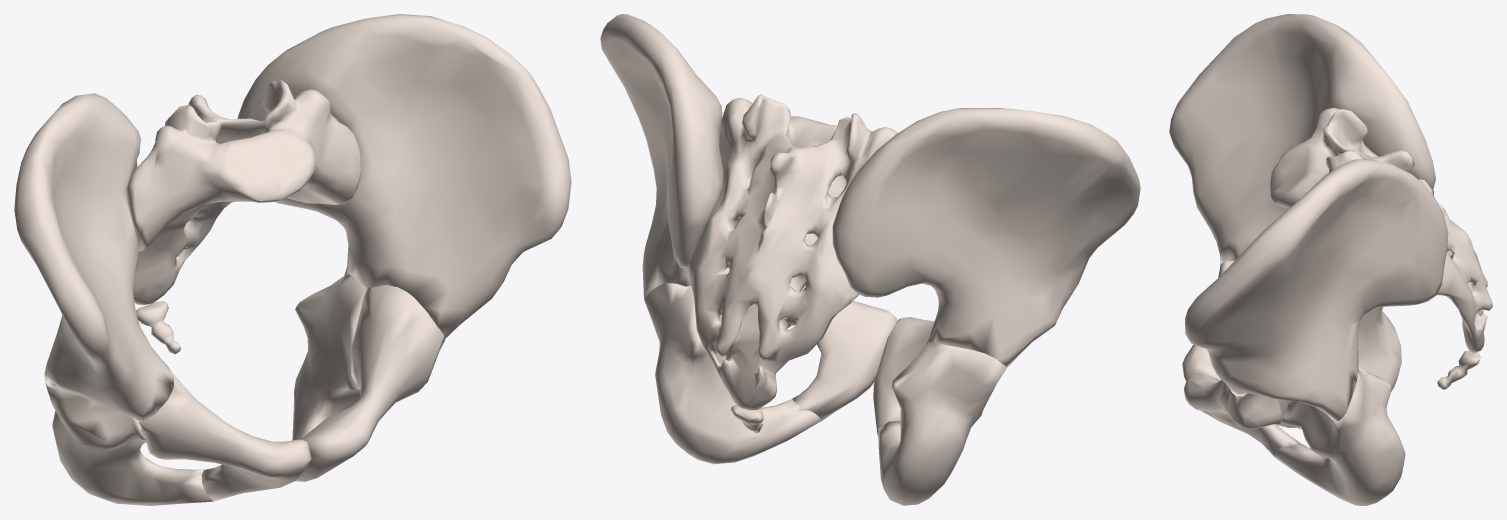
File: 3d-vh-m-pelvis_lod_20.glb
3 renders of one model, left to right at view 1: azimuth 30°, elevation 25°; view 2: azimuth 150°, elevation 25°; view 3: azimuth 270°, elevation 25°, orthographic. The views are drawn at different scales.
Visible parts, largest first — view 1: VH_M_ilium_compact_bone_L, VH_M_ilium_compact_bone_R, VH_M_sacrum, VH_M_pubis_compact_bone_L, VH_M_ischium_compact_bone_R, VH_M_pubis_compact_bone_R, VH_M_ischium_compact_bone_L, VH_M_coccyx; view 2: VH_M_ilium_compact_bone_R, VH_M_sacrum, VH_M_ilium_compact_bone_L, VH_M_ischium_compact_bone_L, VH_M_ischium_compact_bone_R, VH_M_pubis_compact_bone_L, VH_M_pubis_compact_bone_R; view 3: VH_M_ilium_compact_bone_L, VH_M_ilium_compact_bone_R, VH_M_ischium_compact_bone_L, VH_M_sacrum, VH_M_pubis_compact_bone_L, VH_M_ischium_compact_bone_R, VH_M_pubis_compact_bone_R, VH_M_coccyx.
Part boxes in pixels (x1=…): VH_M_ilium_compact_bone_L: x1=237, y1=14, x2=571, y2=338; VH_M_ilium_compact_bone_R: x1=14, y1=93, x2=173, y2=422; VH_M_sacrum: x1=127, y1=79, x2=361, y2=305; VH_M_pubis_compact_bone_L: x1=295, y1=285, x2=444, y2=481; VH_M_ischium_compact_bone_R: x1=44, y1=379, x2=213, y2=505; VH_M_pubis_compact_bone_R: x1=139, y1=367, x2=311, y2=501; VH_M_ischium_compact_bone_L: x1=292, y1=274, x2=365, y2=440; VH_M_coccyx: x1=136, y1=301, x2=180, y2=353; VH_M_ilium_compact_bone_R: x1=832, y1=108, x2=1140, y2=367; VH_M_sacrum: x1=688, y1=94, x2=897, y2=410; VH_M_ilium_compact_bone_L: x1=600, y1=14, x2=723, y2=299; VH_M_ischium_compact_bone_L: x1=644, y1=268, x2=820, y2=464; VH_M_ischium_compact_bone_R: x1=878, y1=341, x2=1006, y2=505; VH_M_pubis_compact_bone_L: x1=792, y1=285, x2=897, y2=421; VH_M_pubis_compact_bone_R: x1=873, y1=317, x2=934, y2=436; VH_M_ilium_compact_bone_L: x1=1185, y1=159, x2=1448, y2=420; VH_M_ilium_compact_bone_R: x1=1169, y1=14, x2=1435, y2=265; VH_M_ischium_compact_bone_L: x1=1275, y1=367, x2=1405, y2=505; VH_M_sacrum: x1=1270, y1=107, x2=1492, y2=352; VH_M_pubis_compact_bone_L: x1=1184, y1=373, x2=1299, y2=457; VH_M_ischium_compact_bone_R: x1=1286, y1=306, x2=1401, y2=427; VH_M_pubis_compact_bone_R: x1=1182, y1=260, x2=1289, y2=427; VH_M_coccyx: x1=1437, y1=351, x2=1480, y2=389.
Size of the model in its own units: 0.2838 by 0.2187 by 0.1729.
